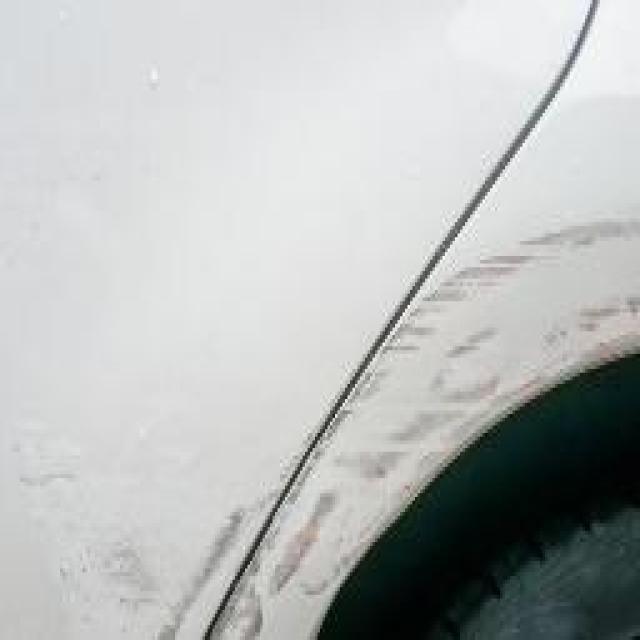Fender: (268, 200, 640, 629)
